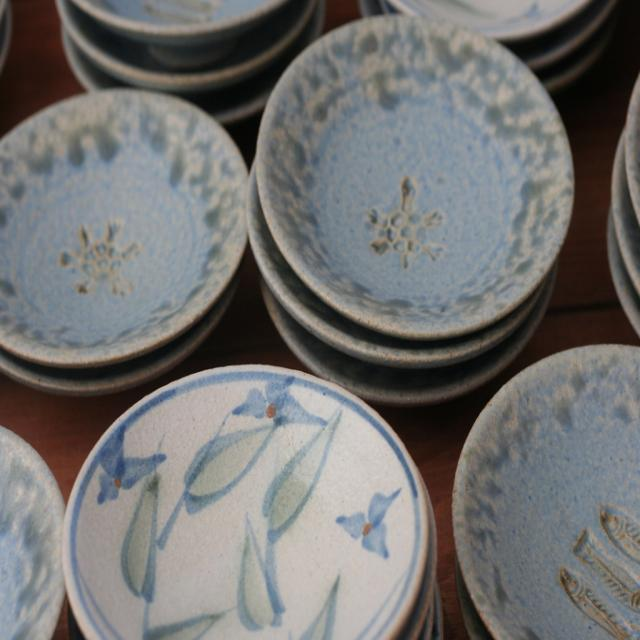non-organic waste: (250, 22, 582, 368), (51, 367, 436, 640), (0, 94, 246, 397), (441, 320, 639, 640)
